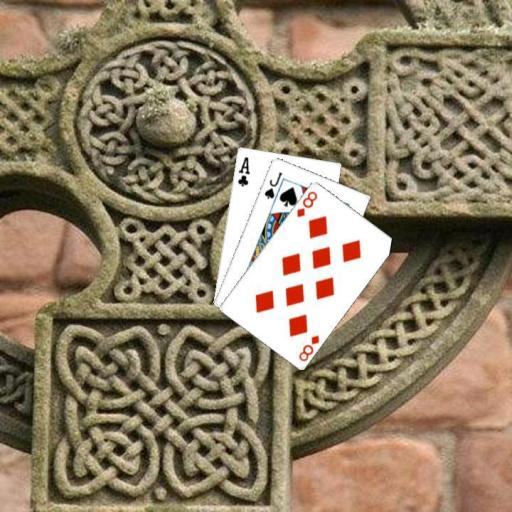8D: (295, 331, 321, 363), (293, 188, 319, 219)
AC: (234, 154, 251, 188)
JS: (261, 168, 284, 200)
